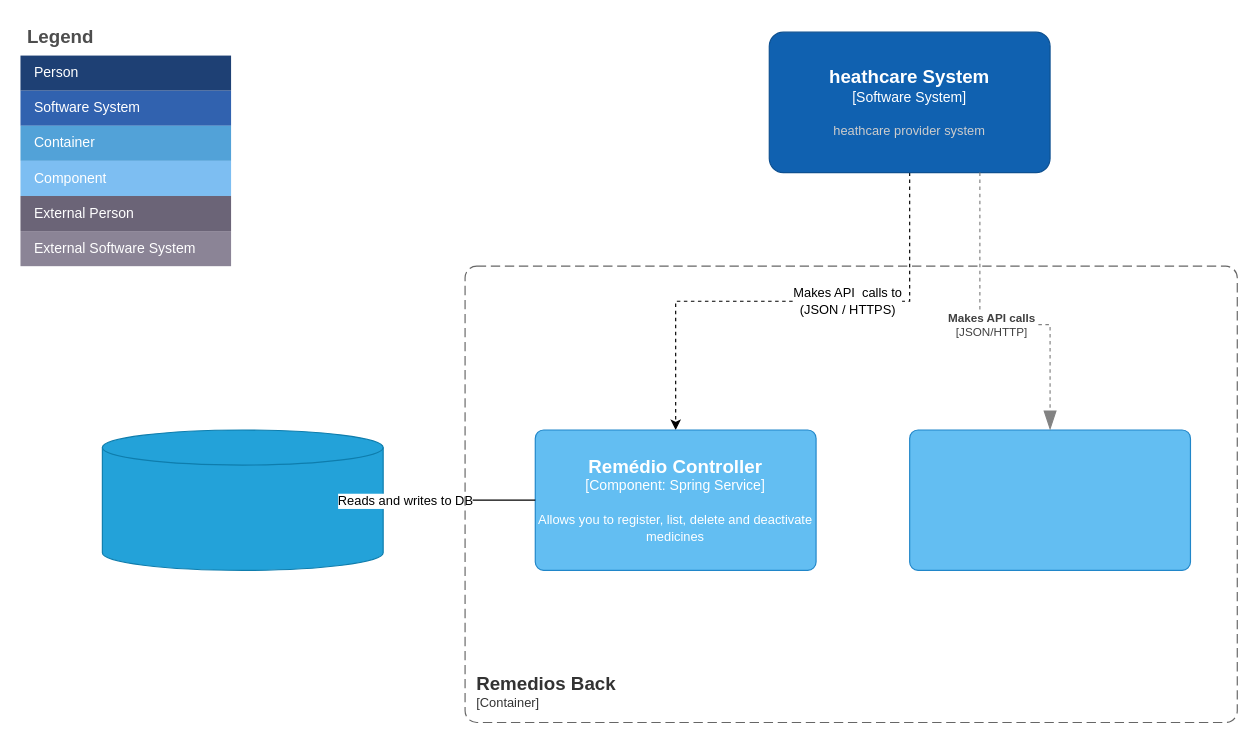
This 1258x743 diagram has some shape labels left out. The centre of each missing label's shape, as x and y in pixels:
"auth controller [Component: e.g. Spring Service] allow user to auth" belongs at (1049,499).
"Database [Database: SQL] Armazena remédios ativos e inativos" belongs at (242,499).
